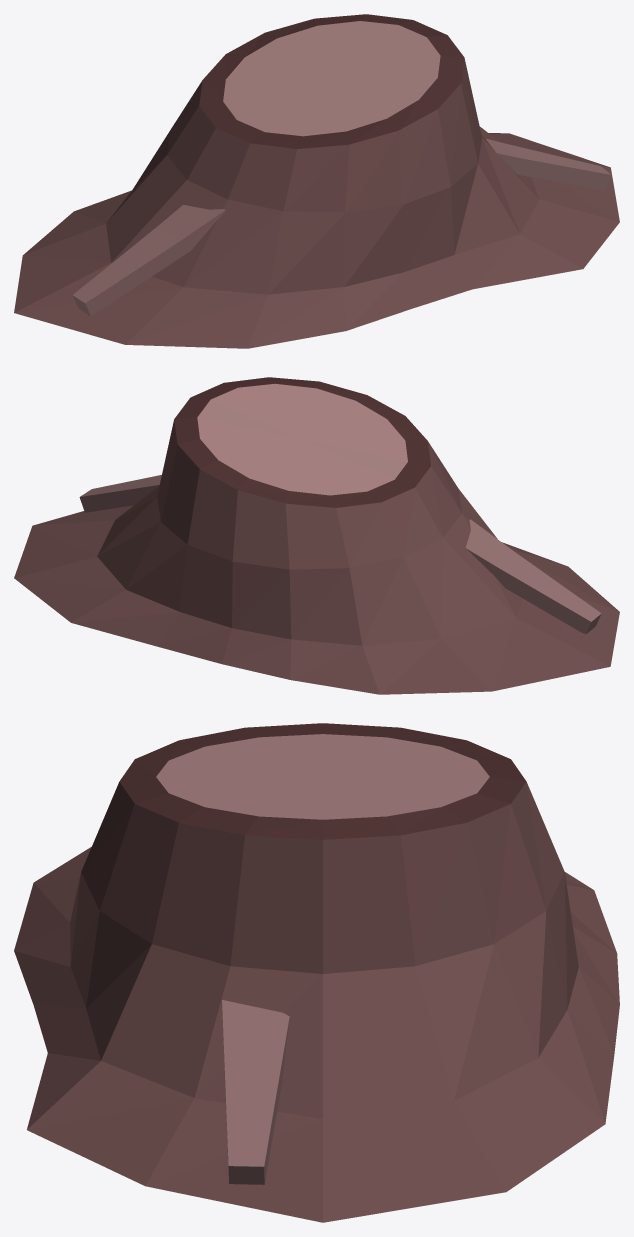
File: stump_harbinger_chopped_1.obj
The picture shows the model from 3 angles, top to bottom: view 1: azimuth 30°, elevation 25°; view 2: azimuth 150°, elevation 25°; view 3: azimuth 270°, elevation 25°; orthographic projection. The views are drawn at different scales.
Parts seen in each view (by area): view 1: stump_harbinger_chopped_1; view 2: stump_harbinger_chopped_1; view 3: stump_harbinger_chopped_1.
Part boxes in pixels (x1,y1,x2,y2): stump_harbinger_chopped_1: [14, 14, 619, 348]; stump_harbinger_chopped_1: [14, 377, 619, 694]; stump_harbinger_chopped_1: [14, 723, 619, 1222].
Bounding box in the file's own units: 0.8241 × 0.231 × 0.4762.
